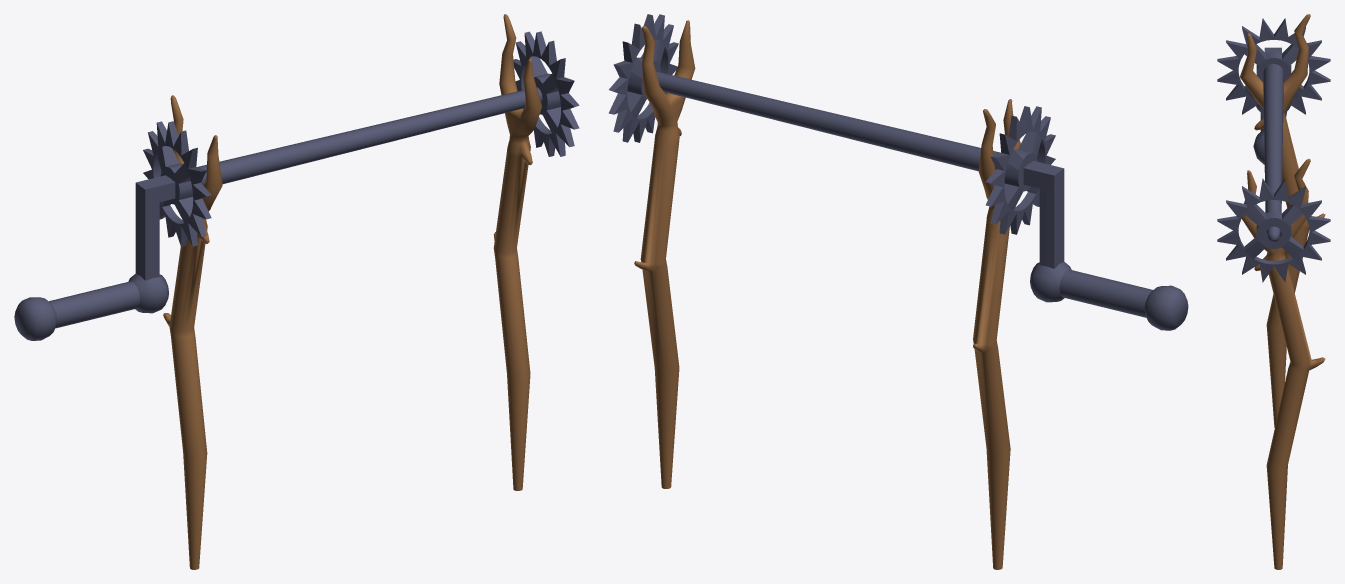
Rendered from PortableBarbecue.fbx.
The picture shows the model from 3 angles, left to right: view 1: azimuth 30°, elevation 25°; view 2: azimuth 150°, elevation 25°; view 3: azimuth 270°, elevation 25°; orthographic projection. The views are drawn at different scales.
Parts seen in each view (by area): view 1: BarbecuePortable; view 2: BarbecuePortable; view 3: BarbecuePortable.
Part boxes in pixels (left/top/right/bottom): BarbecuePortable: left=14, top=14, right=579, bottom=569; BarbecuePortable: left=608, top=14, right=1188, bottom=569; BarbecuePortable: left=1217, top=14, right=1330, bottom=569.
Bounding box in the file's own units: 297 × 239 × 59.81.
